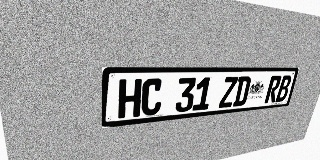1: (192, 77, 213, 111)
3: (175, 77, 197, 113)
B: (275, 75, 293, 102)
C: (140, 78, 164, 116)
D: (232, 76, 252, 107)
H: (118, 79, 142, 119)
R: (264, 76, 282, 103)
Z: (218, 77, 238, 108)
